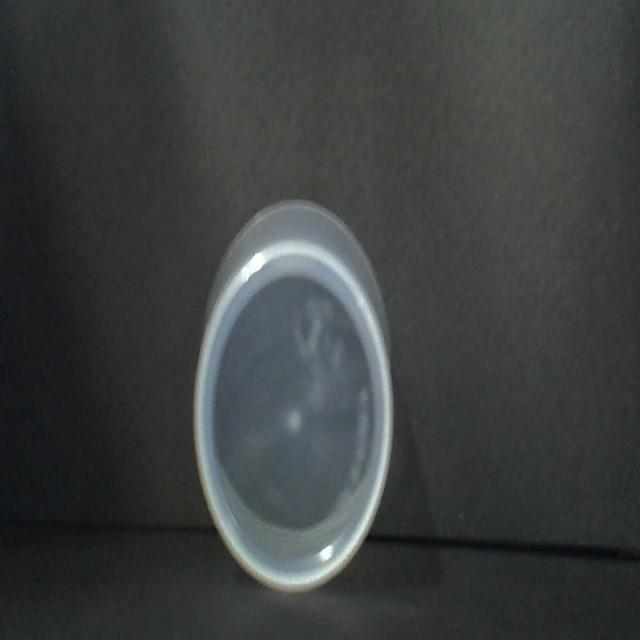cup: (183, 187, 402, 615)
